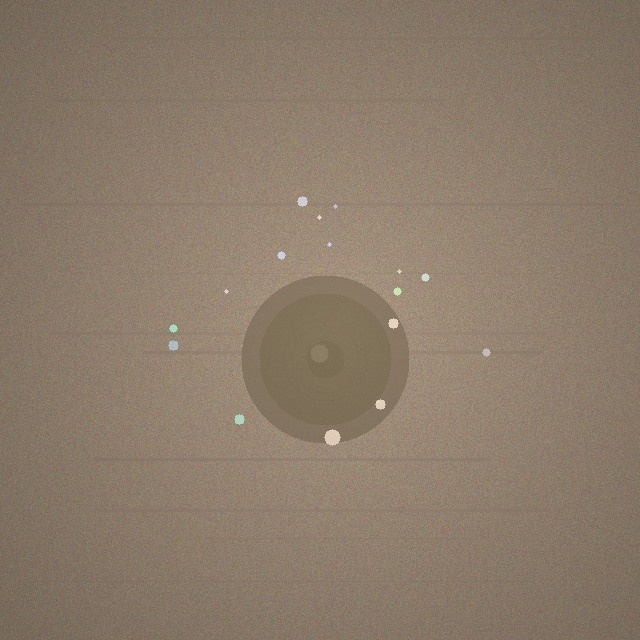overburn: (241, 275, 409, 443)
